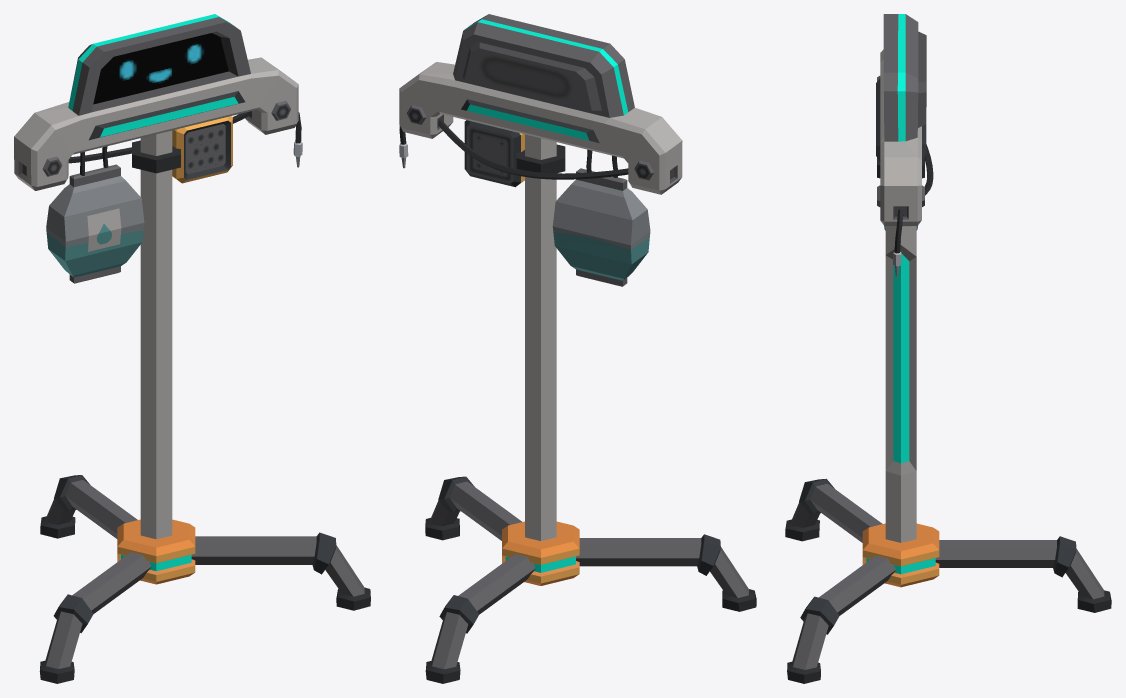
File: SM_Prop_IV_Station_01.fbx
3 views of the same model, side by side, from view 1: azimuth 30°, elevation 25°; view 2: azimuth 150°, elevation 25°; view 3: azimuth 270°, elevation 25° (orthographic).
Parts seen in each view (by area): view 1: SM_Prop_IV_Station_01; view 2: SM_Prop_IV_Station_01; view 3: SM_Prop_IV_Station_01.
Boxes of the visible parts, bbox=[...] form: SM_Prop_IV_Station_01: bbox=[14, 14, 370, 683]; SM_Prop_IV_Station_01: bbox=[399, 14, 756, 683]; SM_Prop_IV_Station_01: bbox=[785, 14, 1111, 683].
Size of the model in its own units: 101 by 167 by 87.99.
